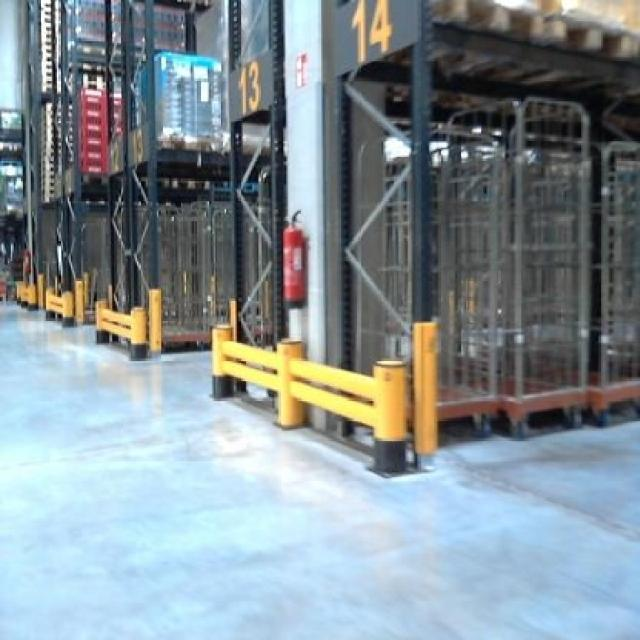floor: (0, 303, 637, 637)
